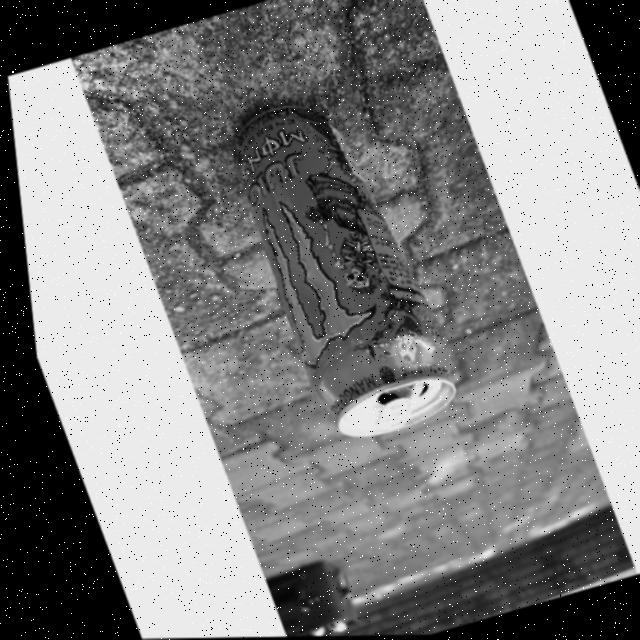Monster Mango Loco: (212, 90, 455, 438)
